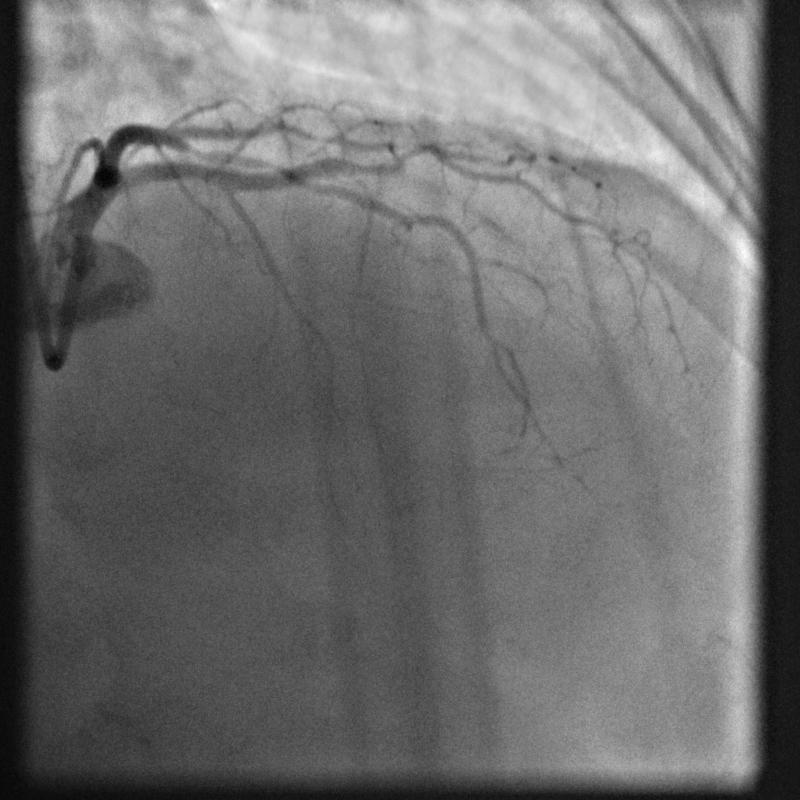Stenosis: (175, 136, 243, 166)
